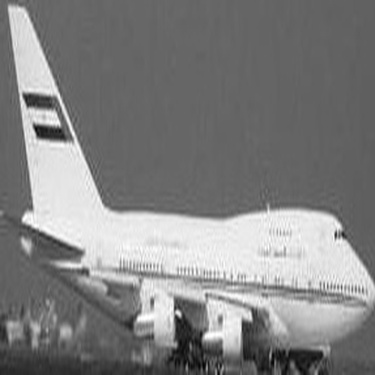airplane: (15, 1, 366, 363)
